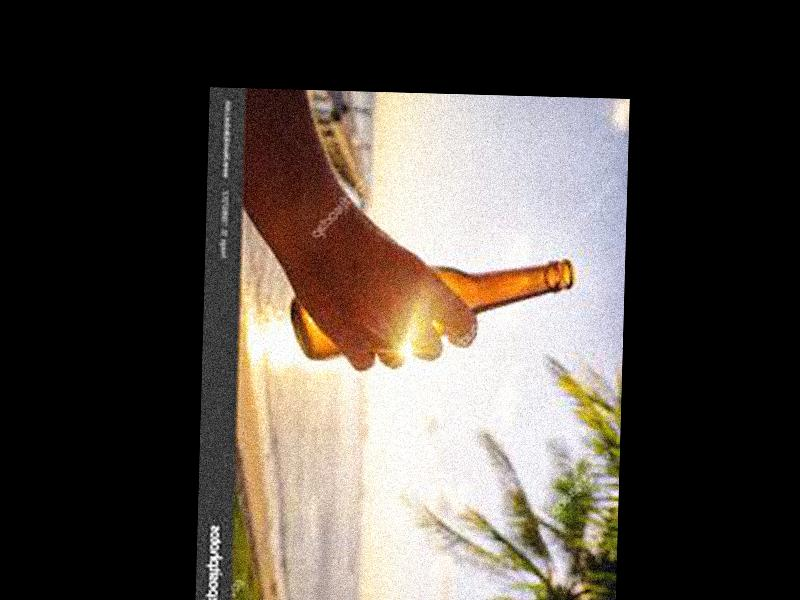Beer: (287, 248, 574, 365)
